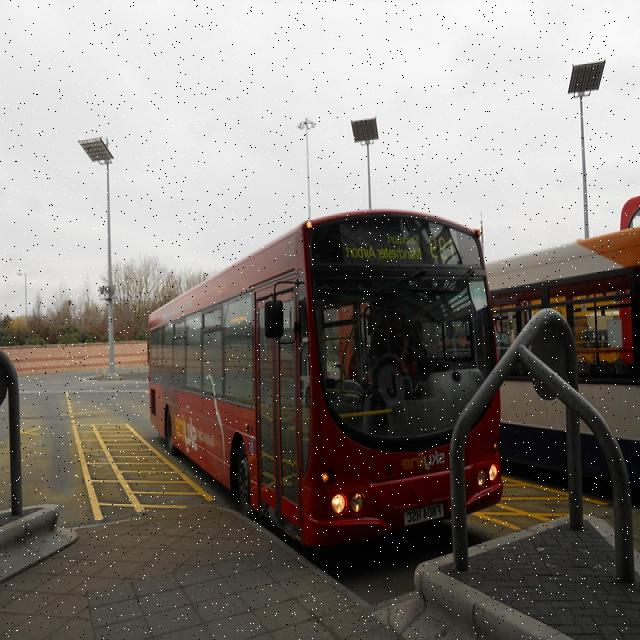Bus: (151, 211, 502, 541), (491, 199, 639, 497), (79, 135, 116, 373), (352, 117, 379, 208)
